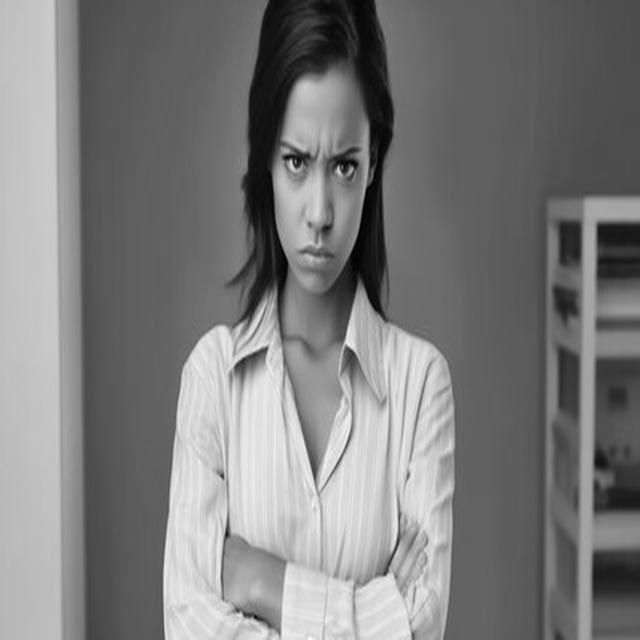Angry: (271, 79, 370, 294)
